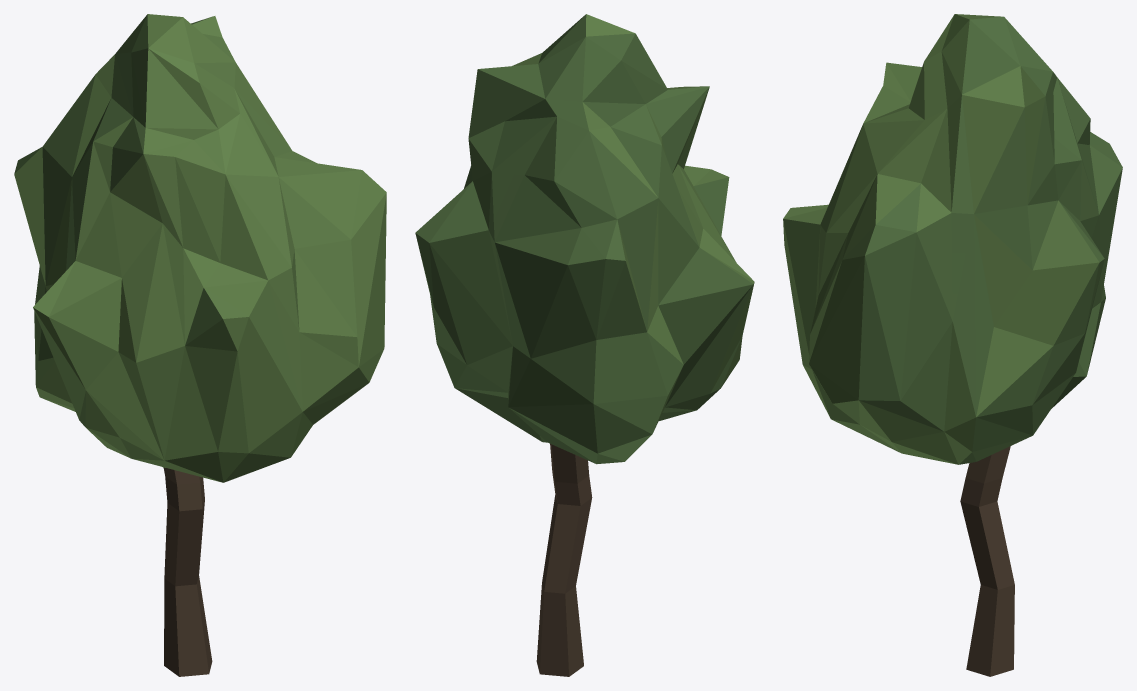
File: tree.glb
3 views of the same model, side by side, from view 1: azimuth 30°, elevation 25°; view 2: azimuth 150°, elevation 25°; view 3: azimuth 270°, elevation 25° (orthographic). The views are drawn at different scales.
Parts seen in each view (by area): view 1: SM_Env_Tree_01; view 2: SM_Env_Tree_01; view 3: SM_Env_Tree_01.
Boxes of the visible parts, x1=… form: SM_Env_Tree_01: x1=14, y1=14, x2=386, y2=676; SM_Env_Tree_01: x1=415, y1=14, x2=754, y2=676; SM_Env_Tree_01: x1=783, y1=14, x2=1122, y2=676.
Bounding box in the file's own units: 2.3 × 4.69 × 2.26.
